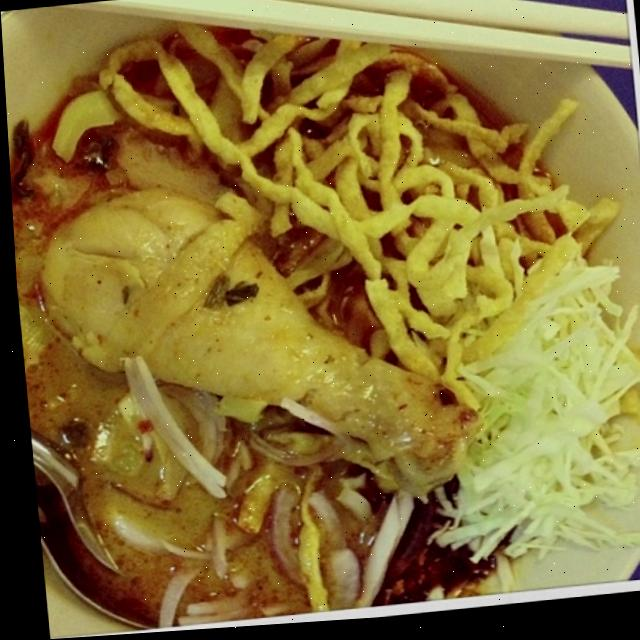面条主食: (18, 0, 630, 605)
